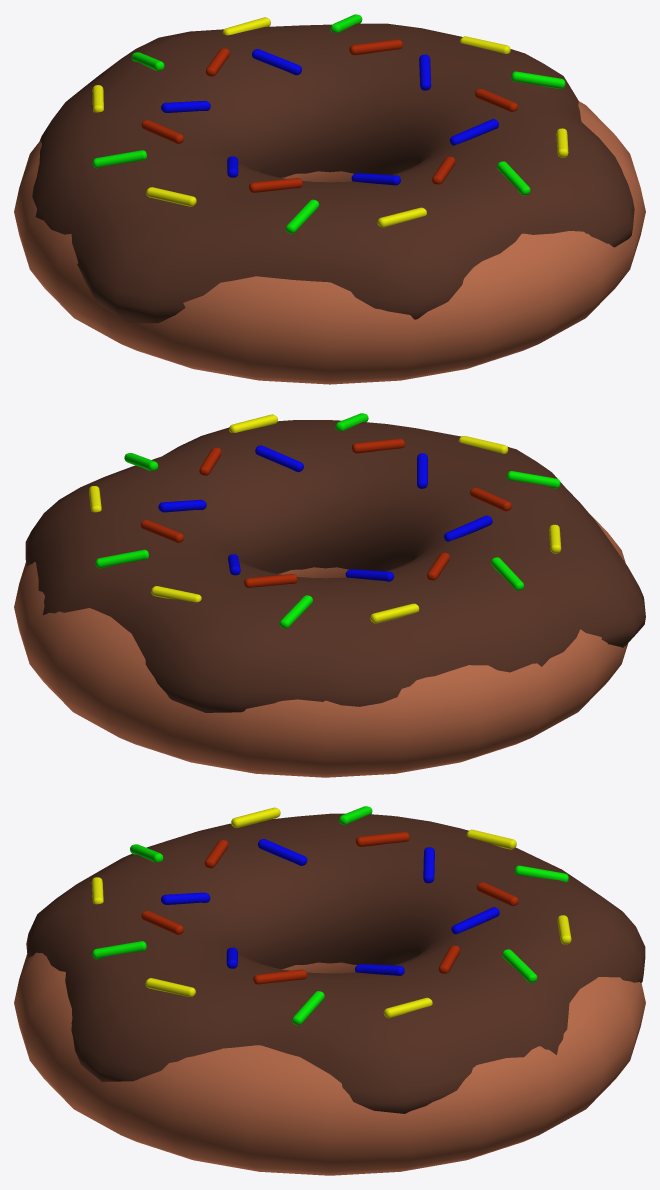
Rendered from Chocolate_Donut.fbx.
3 renders of one model, top to bottom at view 1: azimuth 30°, elevation 25°; view 2: azimuth 150°, elevation 25°; view 3: azimuth 270°, elevation 25°, orthographic.
Visible parts, largest first — view 1: Chocolate_Donut; view 2: Chocolate_Donut; view 3: Chocolate_Donut.
Boxes of the visible parts, <box> form: Chocolate_Donut: <box>14,14,645,384</box>; Chocolate_Donut: <box>14,413,645,777</box>; Chocolate_Donut: <box>14,806,645,1175</box>.
Size of the model in its own units: 2.01 by 0.5636 by 2.
